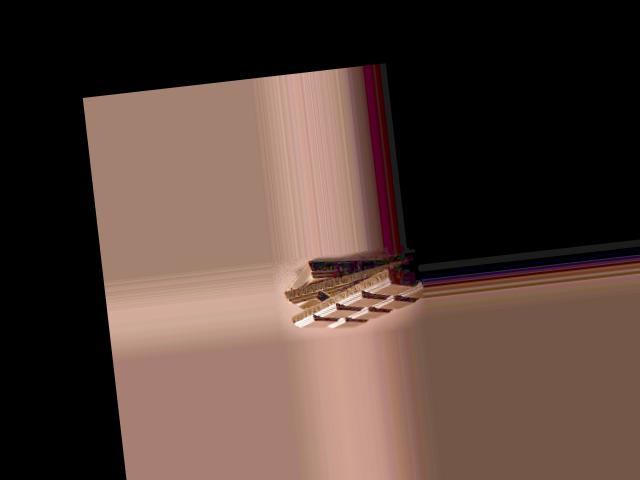chocolate: (283, 257, 422, 333)
